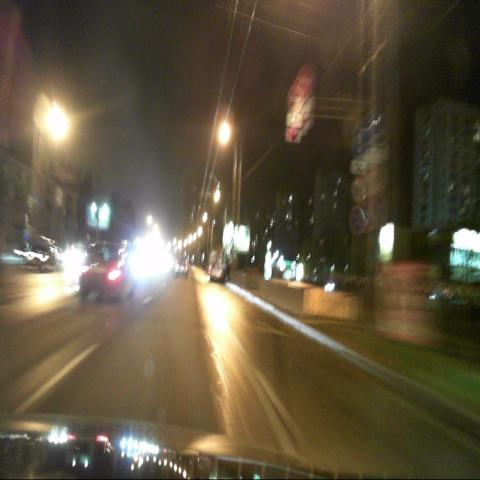8_5_2: (351, 160, 368, 176)
